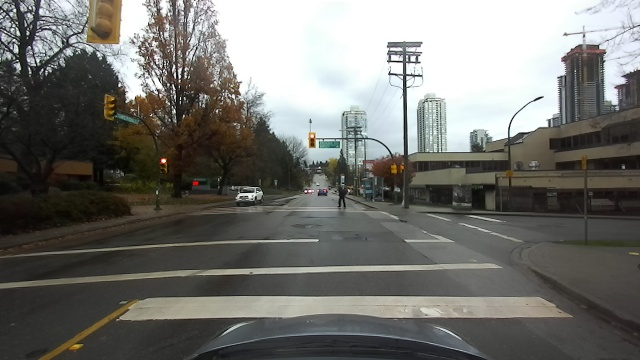car: (232, 184, 266, 208), (315, 188, 329, 197)
